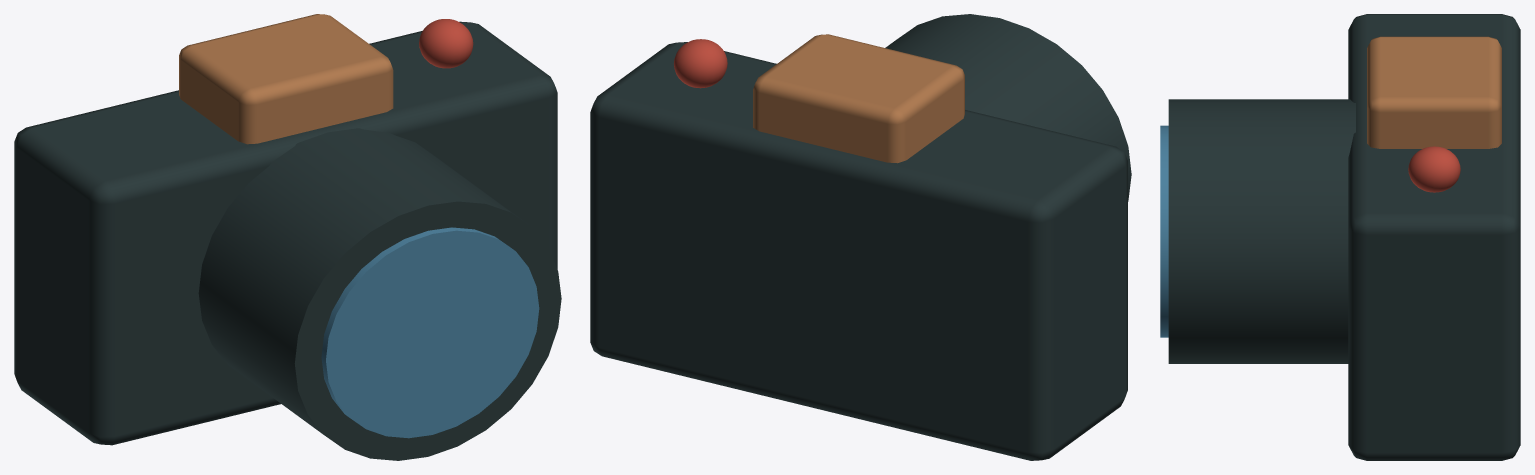
The model's file is wp-appareil-photo.glb.
The picture shows the model from 3 angles, left to right: view 1: azimuth 30°, elevation 25°; view 2: azimuth 150°, elevation 25°; view 3: azimuth 270°, elevation 25°; orthographic projection. The views are drawn at different scales.
Parts seen in each view (by area): view 1: wp-appareil-photo; view 2: wp-appareil-photo; view 3: wp-appareil-photo.
Boxes of the visible parts, x1=… form: wp-appareil-photo: x1=14, y1=14, x2=561, y2=460; wp-appareil-photo: x1=590, y1=14, x2=1131, y2=460; wp-appareil-photo: x1=1160, y1=14, x2=1520, y2=460.
Size of the model in its own units: 0.14 by 0.09 by 0.1.
